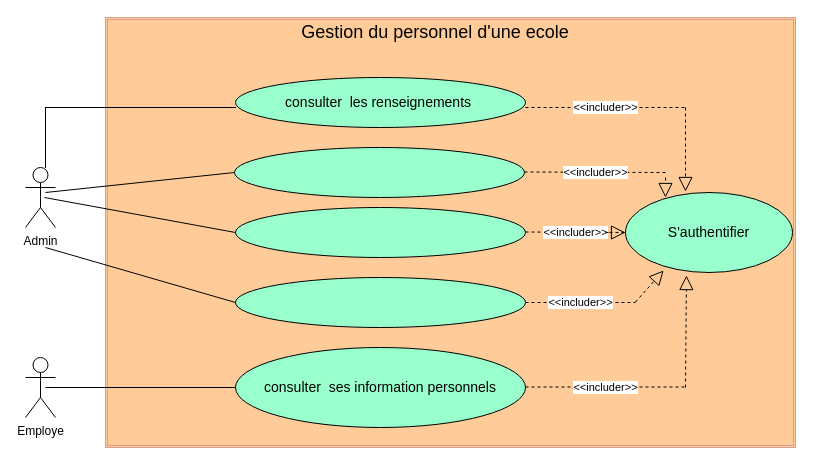
This 813x465 diagram has some shape labels left out. The box of each missing label's shape, as (x1, y1, x2, y2) in pixels:
Gérer son profile: (234, 276, 526, 328)
Insertion des affectations et les abcences: (234, 146, 524, 198)
Modifier des affectations et les absences: (234, 206, 526, 258)
